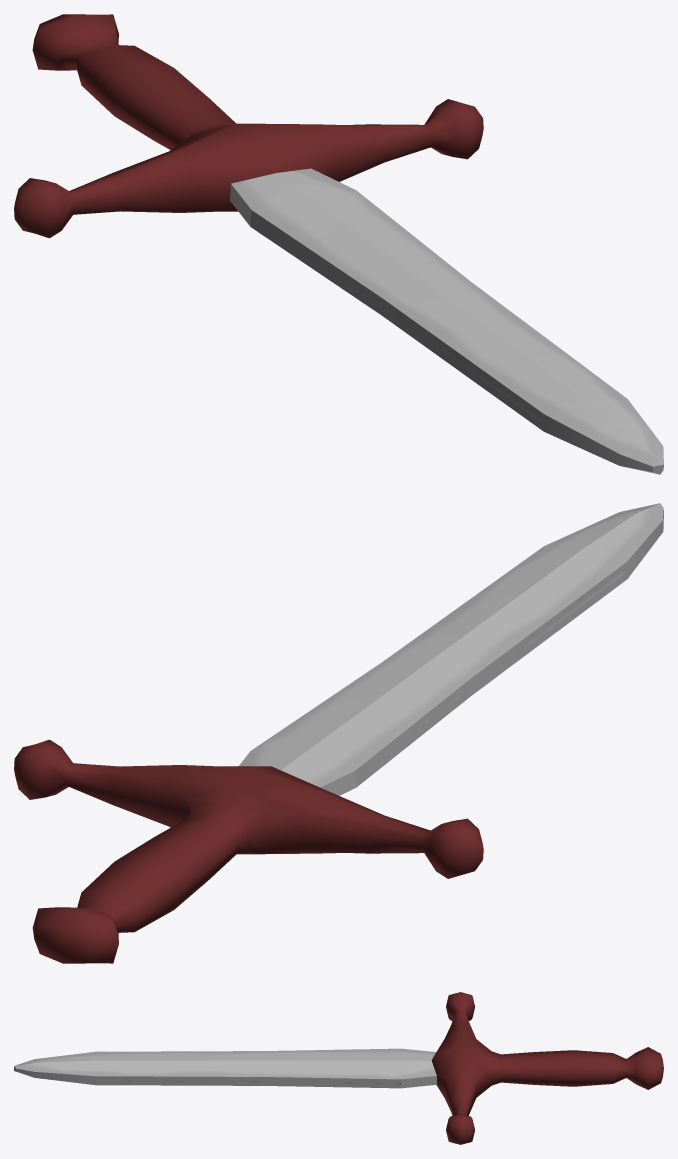
Rendered from Sword.fbx.
3 renders of one model, top to bottom at view 1: azimuth 30°, elevation 25°; view 2: azimuth 150°, elevation 25°; view 3: azimuth 270°, elevation 25°, orthographic. The views are drawn at different scales.
Visible parts, largest first — view 1: Cube; view 2: Cube; view 3: Cube.
Boxes of the visible parts, x1,y1,x2,y2 form: Cube: [14, 14, 663, 474]; Cube: [14, 503, 663, 963]; Cube: [14, 992, 663, 1144].
Bounding box in the file's own units: 58.7 × 9.27 × 130.
1 material, 1 textured.
